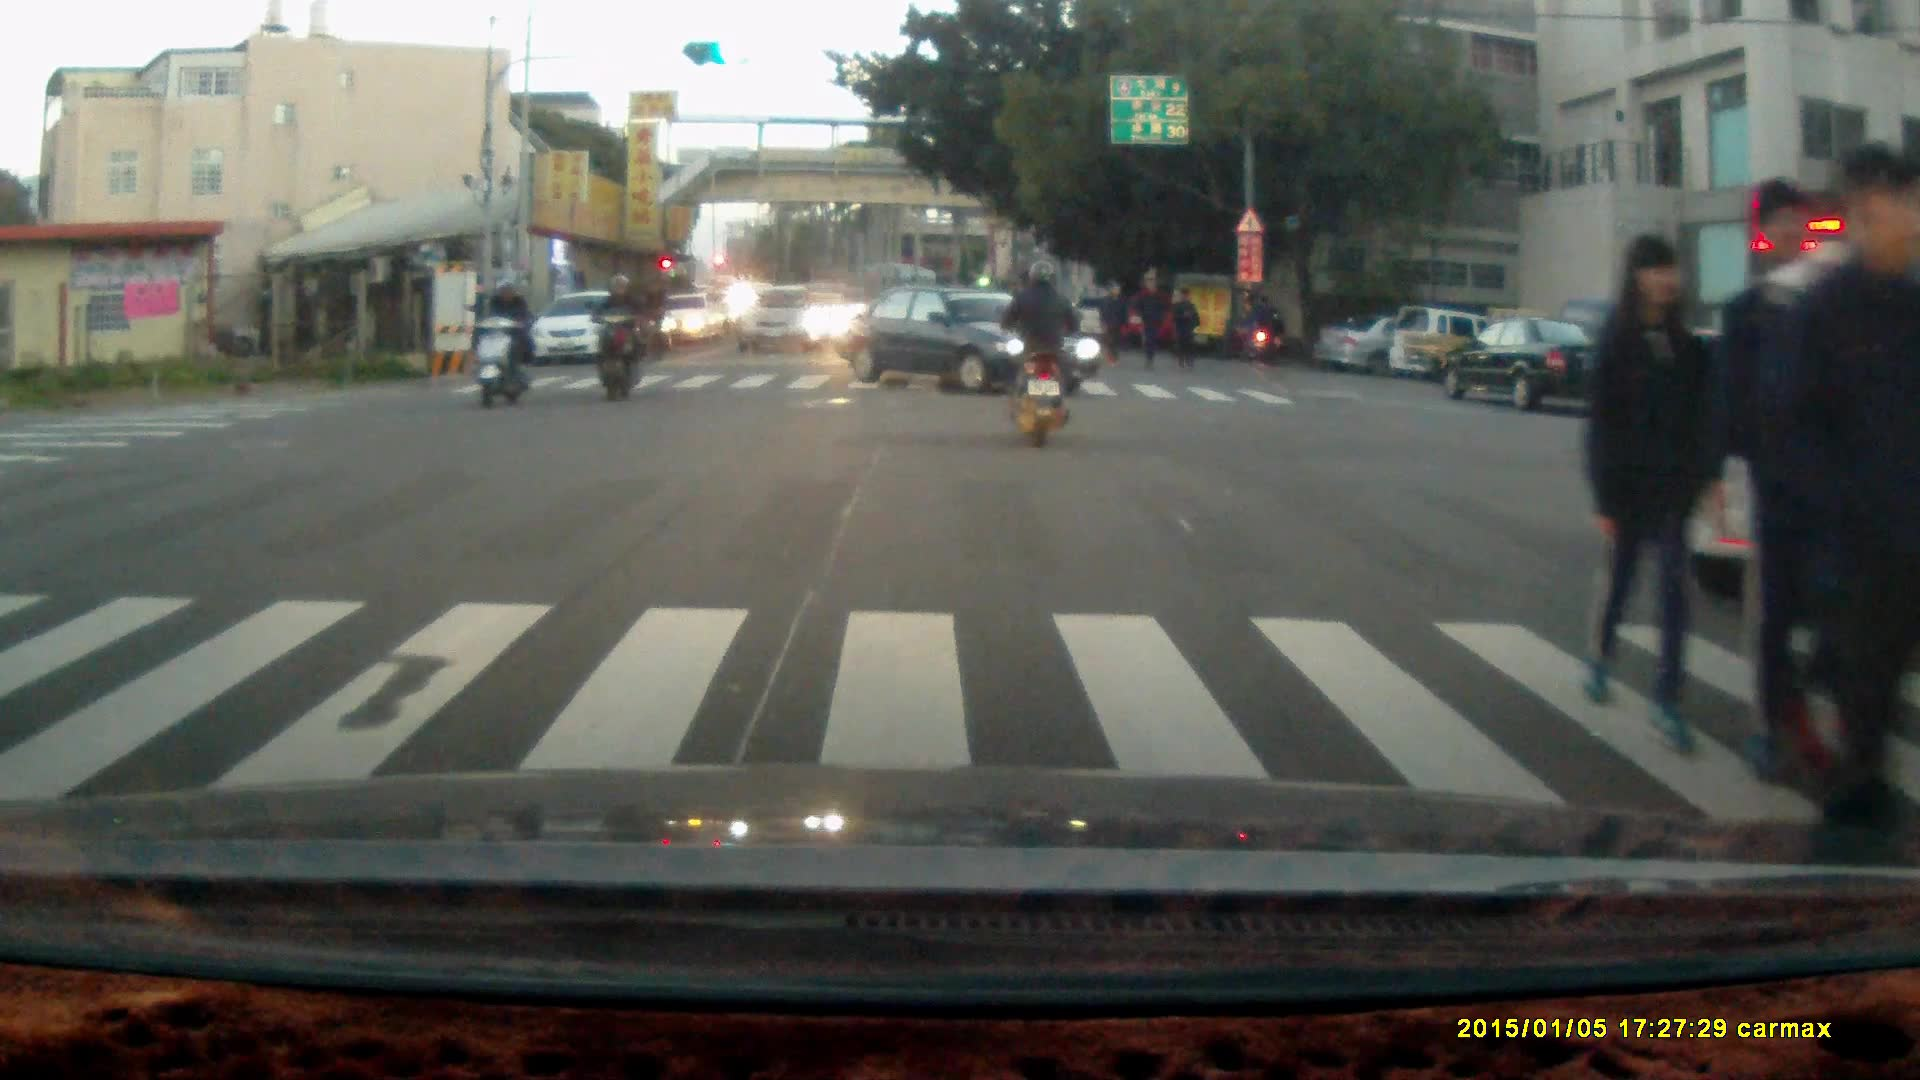pedestrian: (1773, 139, 1920, 815), (1718, 179, 1851, 792), (1574, 222, 1723, 753), (1130, 273, 1164, 371), (1167, 283, 1200, 373), (1097, 280, 1127, 362), (1251, 289, 1282, 366)
rider: (995, 256, 1081, 448), (471, 272, 535, 408), (585, 269, 649, 402), (1237, 298, 1275, 363)
vehicle: (827, 278, 1103, 398), (1447, 314, 1618, 411), (1316, 309, 1492, 379), (532, 291, 647, 368), (743, 286, 829, 358)
